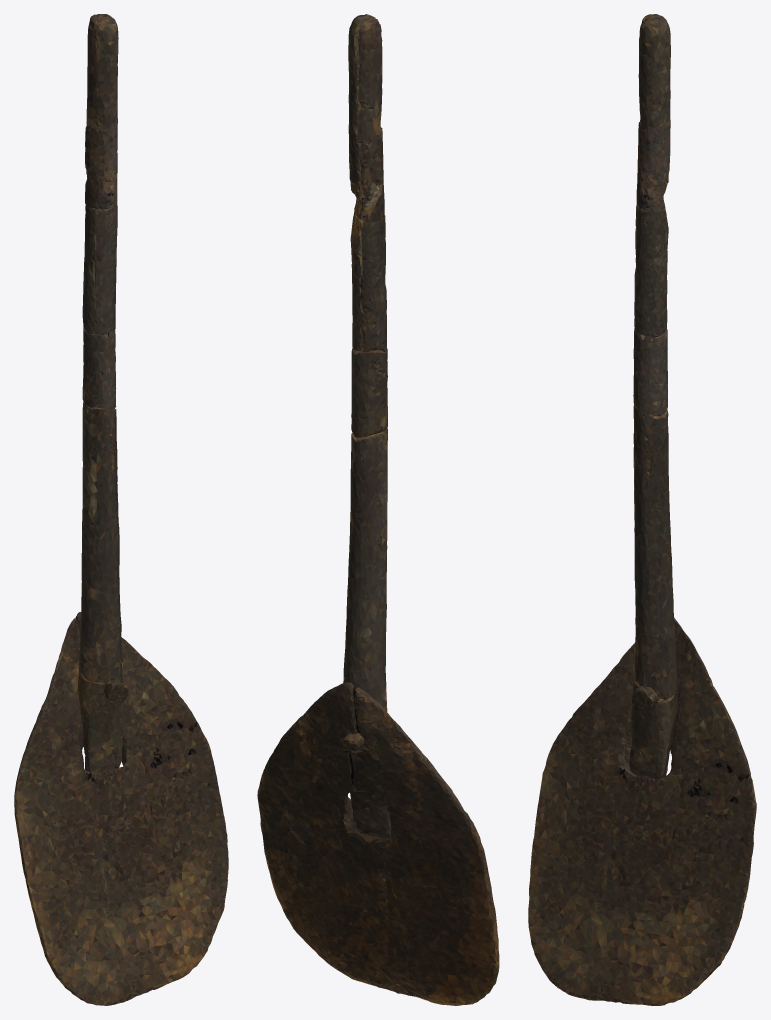
The model's file is pala2.obj.
3 renders of one model, left to right at view 1: azimuth 30°, elevation 25°; view 2: azimuth 150°, elevation 25°; view 3: azimuth 330°, elevation 25°, orthographic. The views are drawn at different scales.
Visible parts, largest first — view 1: pala2; view 2: pala2; view 3: pala2.
Part boxes in pixels (bbox=[...]): pala2: bbox=[14, 14, 228, 1005]; pala2: bbox=[257, 14, 499, 1005]; pala2: bbox=[528, 14, 756, 1005].
Size of the model in its own units: 0.3801 by 1.67 by 0.2068.
Materials: 1 (1 with a texture image).
